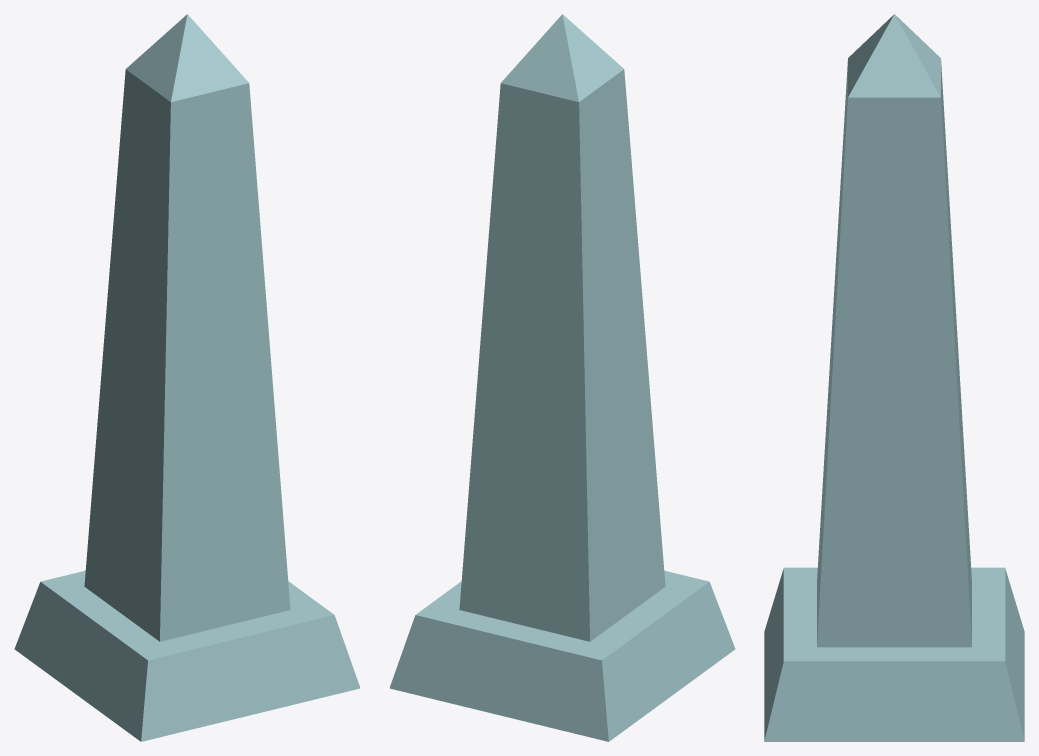
File: stone_obelisk.fbx
3 renders of one model, left to right at view 1: azimuth 30°, elevation 25°; view 2: azimuth 150°, elevation 25°; view 3: azimuth 270°, elevation 25°, orthographic. The views are drawn at different scales.
Parts seen in each view (by area): view 1: stone_obelisk; view 2: stone_obelisk; view 3: stone_obelisk.
Boxes of the visible parts, x1=… form: stone_obelisk: x1=14, y1=14, x2=360, y2=741; stone_obelisk: x1=389, y1=14, x2=735, y2=741; stone_obelisk: x1=764, y1=14, x2=1024, y2=741.
Size of the model in its own units: 2.24 by 6.39 by 2.24.
